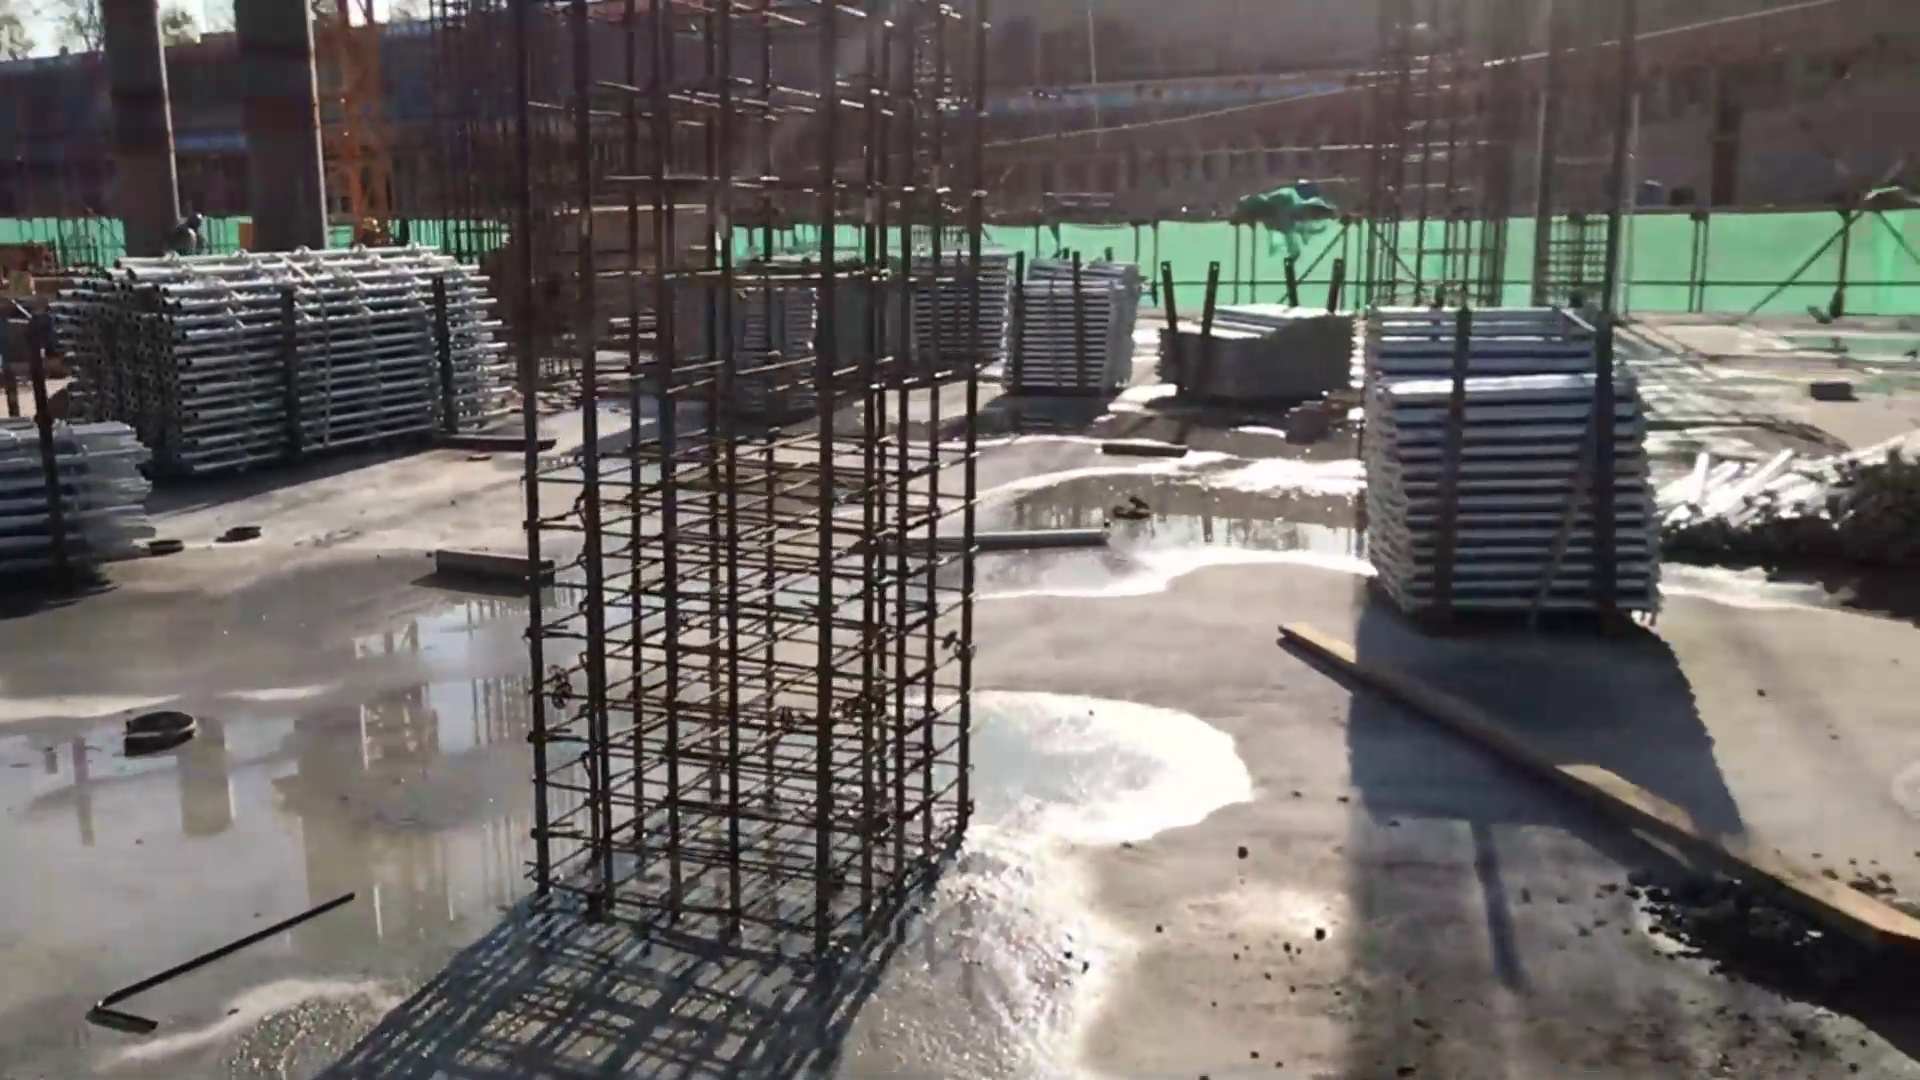scaffold: (61, 243, 520, 469), (1366, 301, 1663, 622), (5, 419, 154, 604), (1168, 302, 1356, 401), (1007, 266, 1139, 392), (905, 247, 1005, 356)
